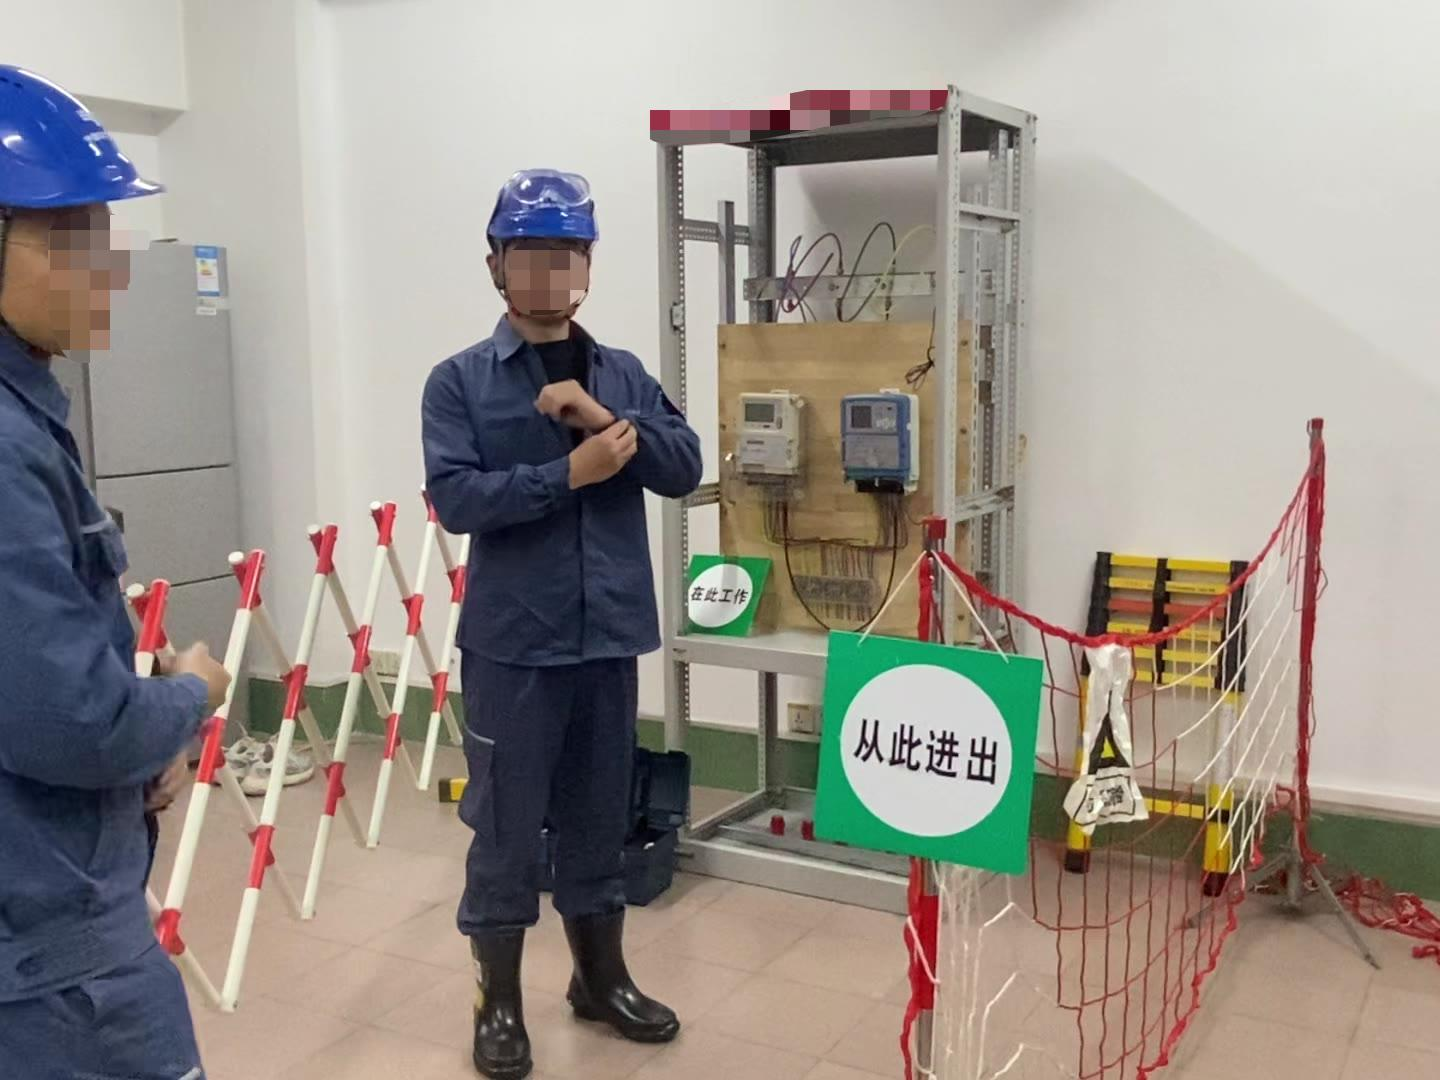halt: (3, 57, 163, 364), (481, 167, 610, 336)
inear: (478, 250, 522, 310)
